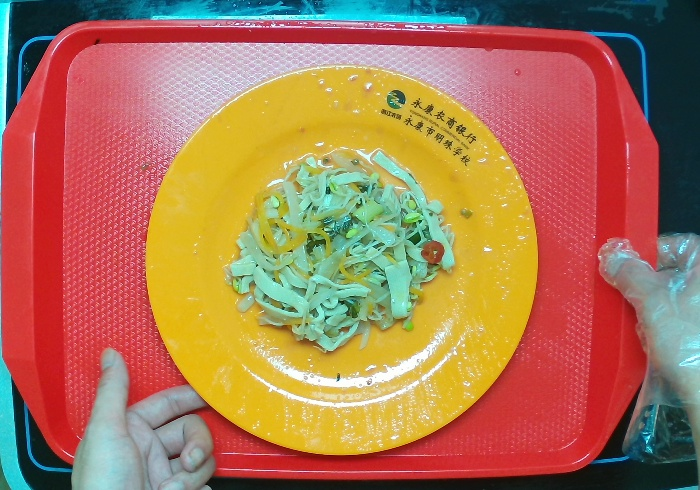YKMZ-Ju_Se_Mian_Pan: (141, 61, 537, 458)
